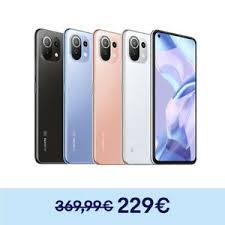Smartphone: (154, 31, 197, 162), (31, 29, 66, 162), (64, 25, 94, 166), (97, 29, 128, 164), (127, 30, 152, 160)
